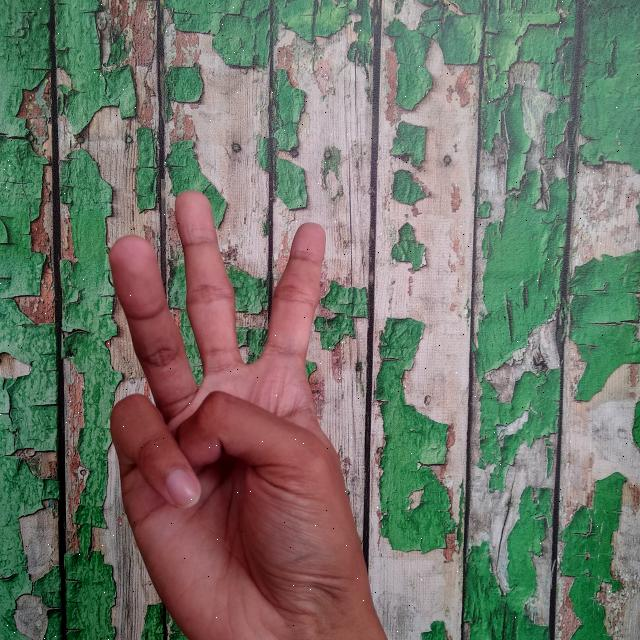W: (97, 183, 388, 640)
